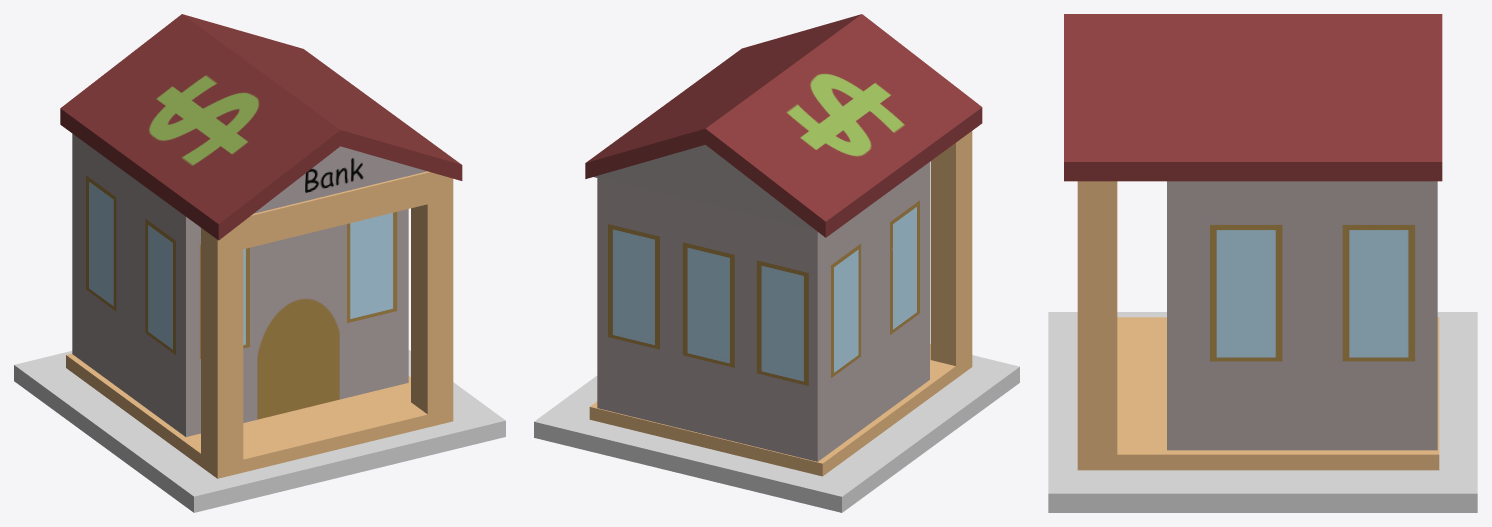
File: Bank02_1.FBX
3 views of the same model, side by side, from view 1: azimuth 30°, elevation 25°; view 2: azimuth 150°, elevation 25°; view 3: azimuth 270°, elevation 25° (orthographic). The views are drawn at different scales.
Visible parts, largest first — view 1: Box002, Box001; view 2: Box002, Box001; view 3: Box002, Box001.
Boxes of the visible parts, bbox=[...] form: Box002: bbox=[60, 14, 462, 478]; Box001: bbox=[14, 350, 505, 512]; Box002: bbox=[585, 14, 982, 476]; Box001: bbox=[534, 355, 1019, 512]; Box002: bbox=[1064, 14, 1442, 470]; Box001: bbox=[1048, 312, 1477, 512].
Size of the model in its own units: 1 by 1.04 by 1.
4 materials, 4 textured.
